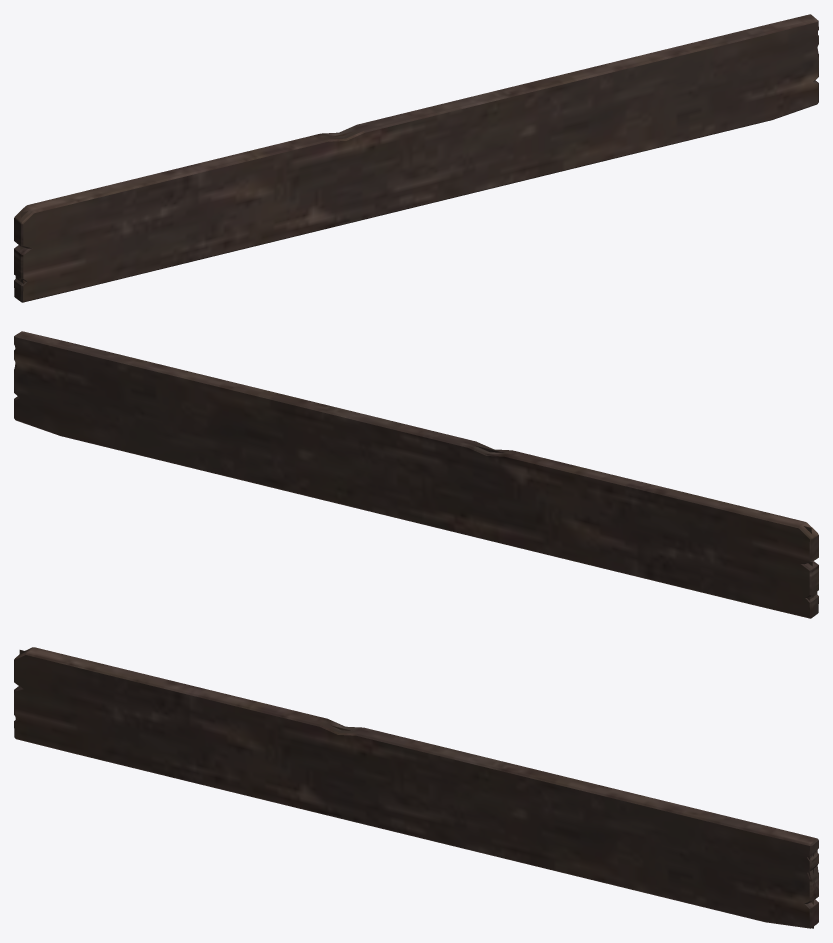
Rendered from FenceWood1.glb.
3 views of the same model, one above another, from view 1: azimuth 30°, elevation 25°; view 2: azimuth 150°, elevation 25°; view 3: azimuth 330°, elevation 25° (orthographic).
Parts seen in each view (by area): view 1: FenceWood1; view 2: FenceWood1; view 3: FenceWood1.
Boxes of the visible parts, x1,y1,x2,y2 form: FenceWood1: (14,14,818,302); FenceWood1: (14,331,818,618); FenceWood1: (14,647,818,928).
Size of the model in its own units: 1.68 by 0.1809 by 0.0318.
Materials: 1 (1 with a texture image).
